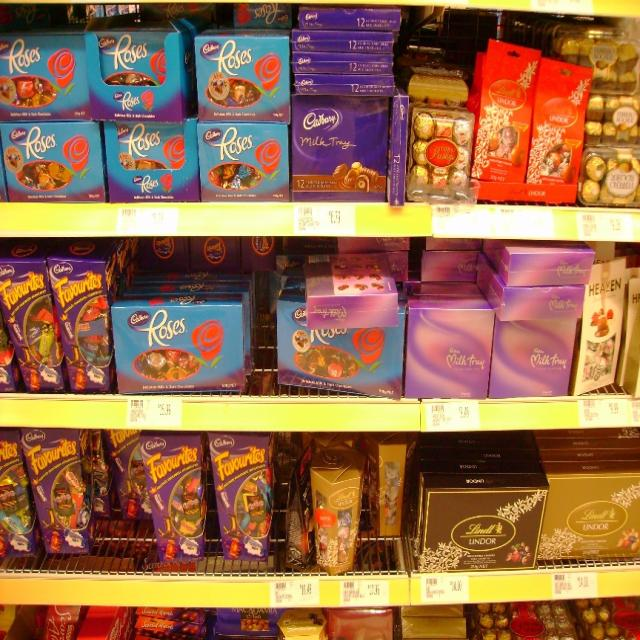q112: (545, 468, 640, 562)
q115: (414, 474, 545, 582)
